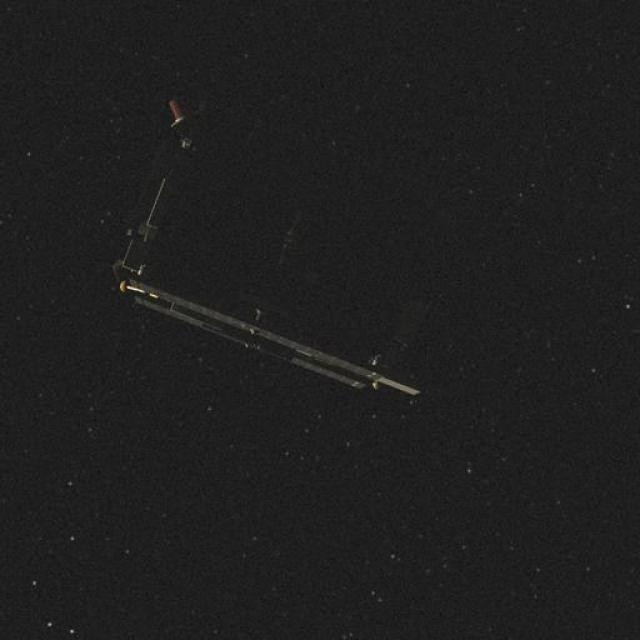proba_2: (115, 80, 464, 412)
